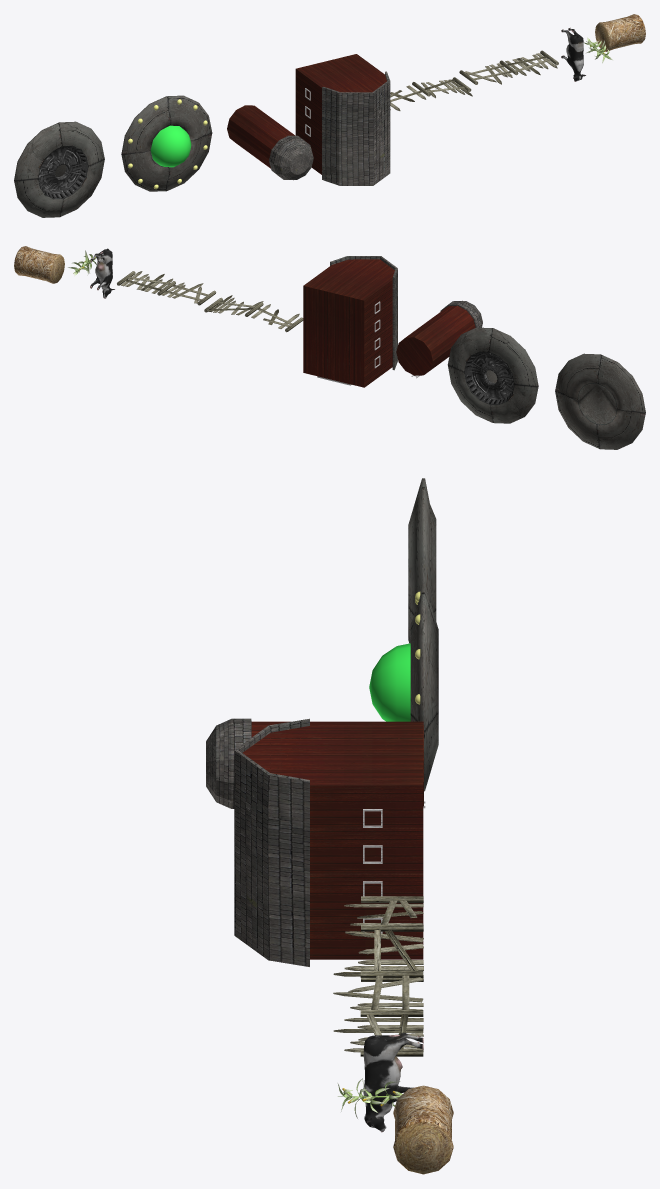
Rendered from AlienFarm.fbx.
The picture shows the model from 3 angles, top to bottom: view 1: azimuth 30°, elevation 25°; view 2: azimuth 150°, elevation 25°; view 3: azimuth 270°, elevation 25°; orthographic projection. The views are drawn at different scales.
Visible parts, largest first — view 1: Barn, UFO.001, UFO, Silo, Rom, Sphere, HangRaoThang, HangRaoCong, PolishCow; view 2: Barn, UFO, UFO.001, Silo, Rom, HangRaoThang, HangRaoCong, PolishCow; view 3: Barn, Rom, UFO, HangRaoThang, HangRaoCong, Silo, UFO.001, PolishCow, Sphere.
Part boxes in pixels (left/top/right/bottom): Barn: left=295, top=54, right=390, bottom=185; UFO.001: left=14, top=121, right=104, bottom=217; UFO: left=121, top=95, right=212, bottom=191; Silo: left=227, top=105, right=313, bottom=180; Rom: left=595, top=14, right=645, bottom=51; Sphere: left=150, top=125, right=191, bottom=167; HangRaoThang: left=459, top=50, right=558, bottom=84; HangRaoCong: left=390, top=77, right=472, bottom=110; PolishCow: left=561, top=27, right=585, bottom=81; Barn: left=303, top=256, right=397, bottom=387; UFO: left=447, top=327, right=538, bottom=423; UFO.001: left=555, top=353, right=645, bottom=449; Silo: left=396, top=300, right=482, bottom=378; Rom: left=14, top=246, right=64, bottom=283; HangRaoThang: left=117, top=271, right=216, bottom=305; HangRaoCong: left=204, top=295, right=303, bottom=332; PolishCow: left=90, top=248, right=114, bottom=298; Barn: left=234, top=718, right=423, bottom=966; Rom: left=393, top=1085, right=453, bottom=1174; UFO: left=410, top=583, right=438, bottom=791; HangRaoThang: left=333, top=971, right=423, bottom=1056; HangRaoCong: left=333, top=896, right=423, bottom=981; Silo: left=206, top=718, right=425, bottom=808; UFO.001: left=408, top=478, right=436, bottom=643; PolishCow: left=363, top=1032, right=423, bottom=1132; Sphere: left=369, top=643, right=410, bottom=721.
Size of the model in its own units: 3738 by 540 by 642.
8 materials, 6 textured.
